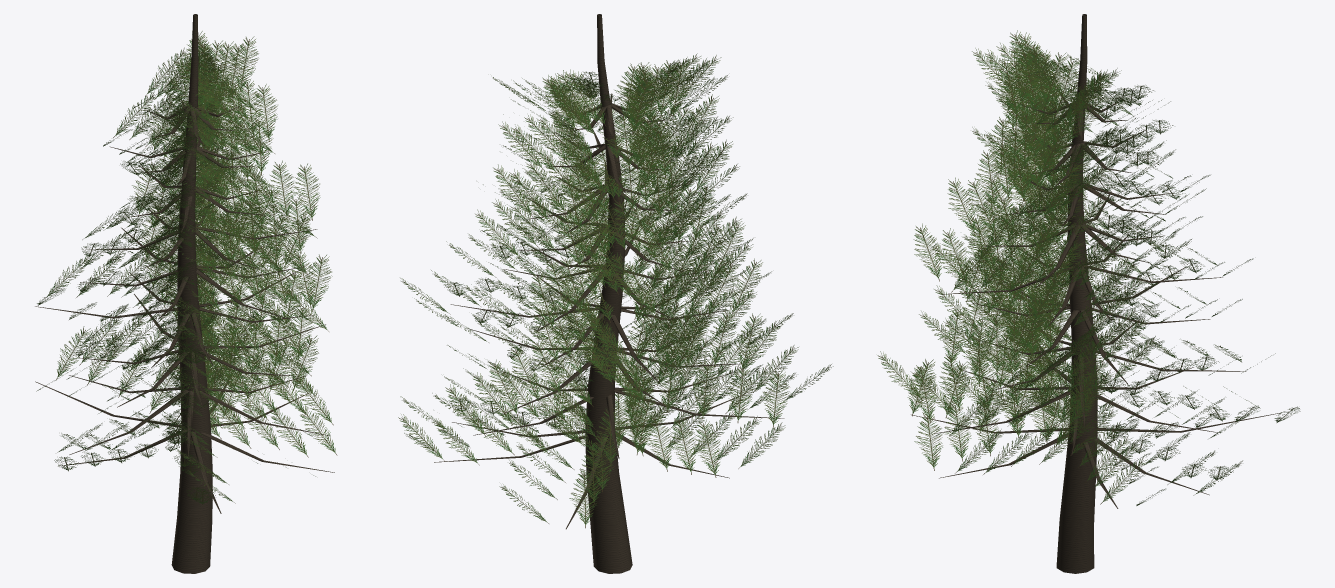
Rendered from Pine_31_LOD0.fbx.
The picture shows the model from 3 angles, left to right: view 1: azimuth 30°, elevation 25°; view 2: azimuth 150°, elevation 25°; view 3: azimuth 270°, elevation 25°; orthographic projection.
Visible parts, largest first — view 1: Pine_31_LOD0; view 2: Pine_31_LOD0; view 3: Pine_31_LOD0.
Boxes of the visible parts, <box> form: Pine_31_LOD0: <box>35,14,337,573</box>; Pine_31_LOD0: <box>398,14,833,573</box>; Pine_31_LOD0: <box>877,14,1300,573</box>.
Size of the model in its own units: 567 by 804 by 599.
